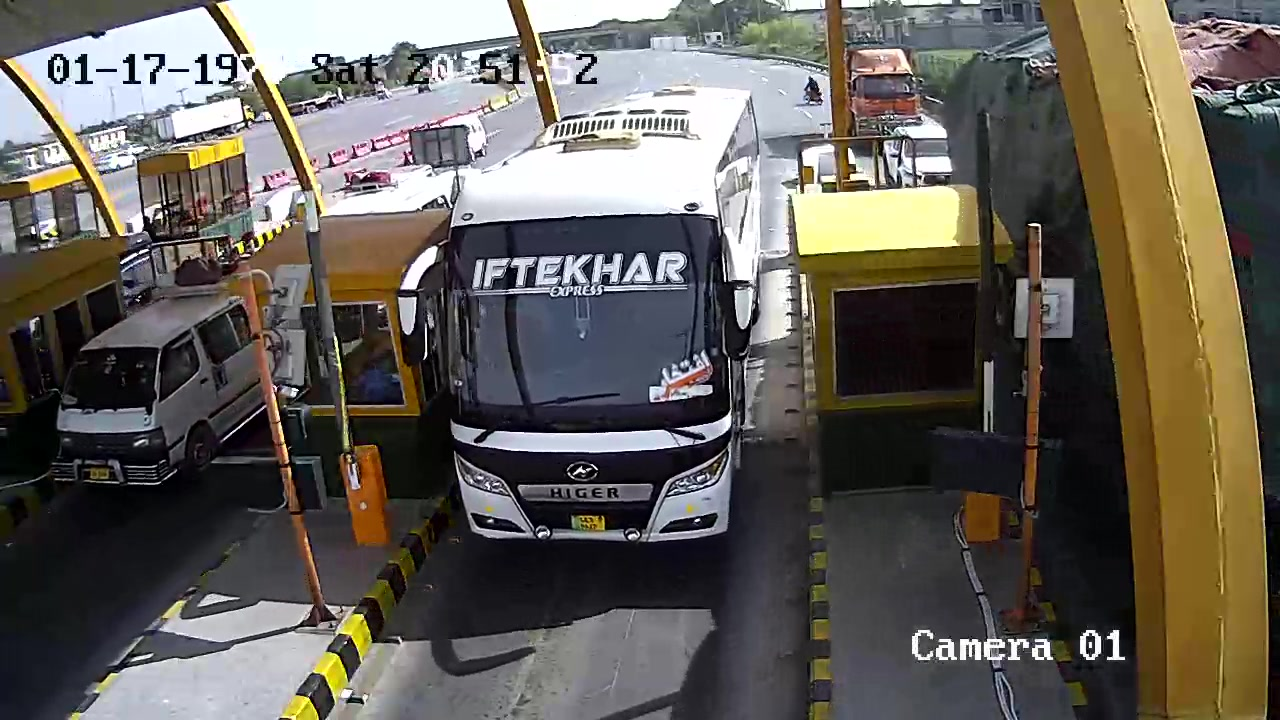F4: (432, 75, 772, 567)
